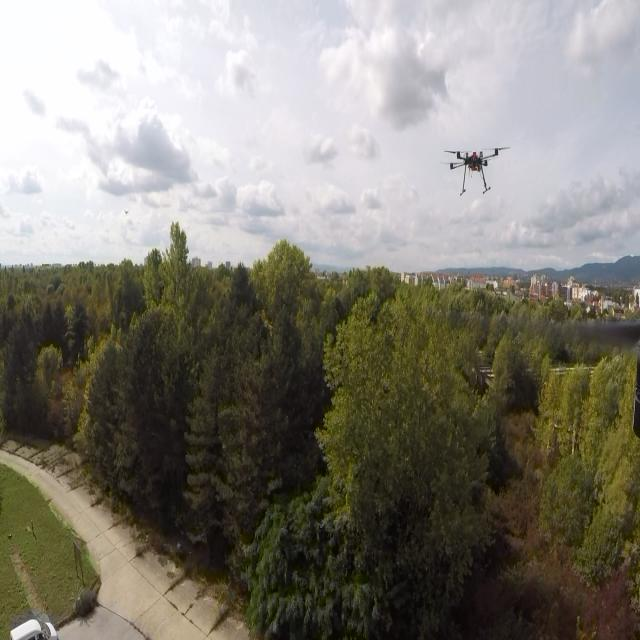UAV: (434, 135, 514, 197)
